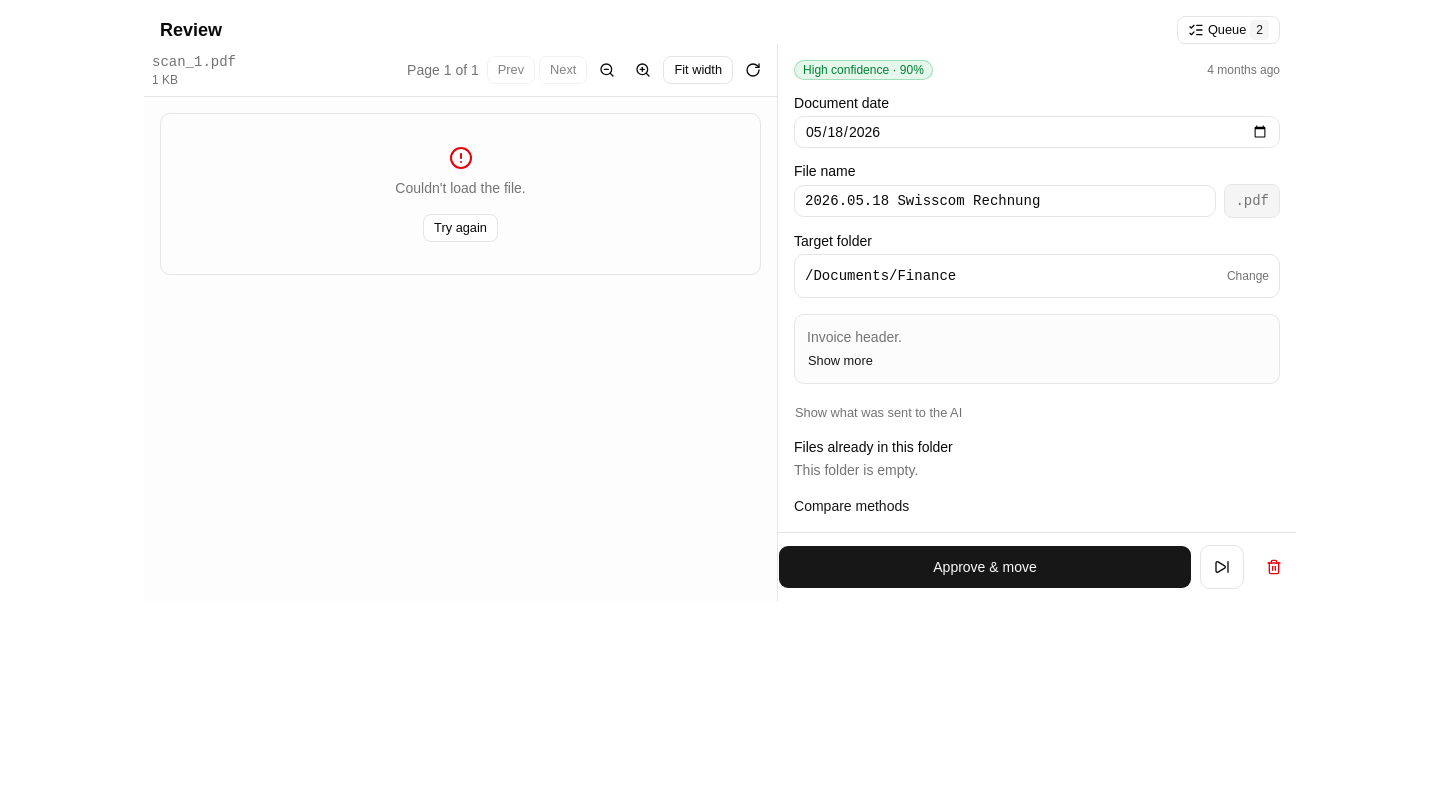
Test: ReviewPage queue overview › lists every open document and jumps to the one that is picked
Check: the field showing "2026.05.18 Swisscom Rechnung" is shown, box [794,185,1216,217]
Click the button "Queue 2".
click(1228, 30)  # box [1177,16,1280,44]
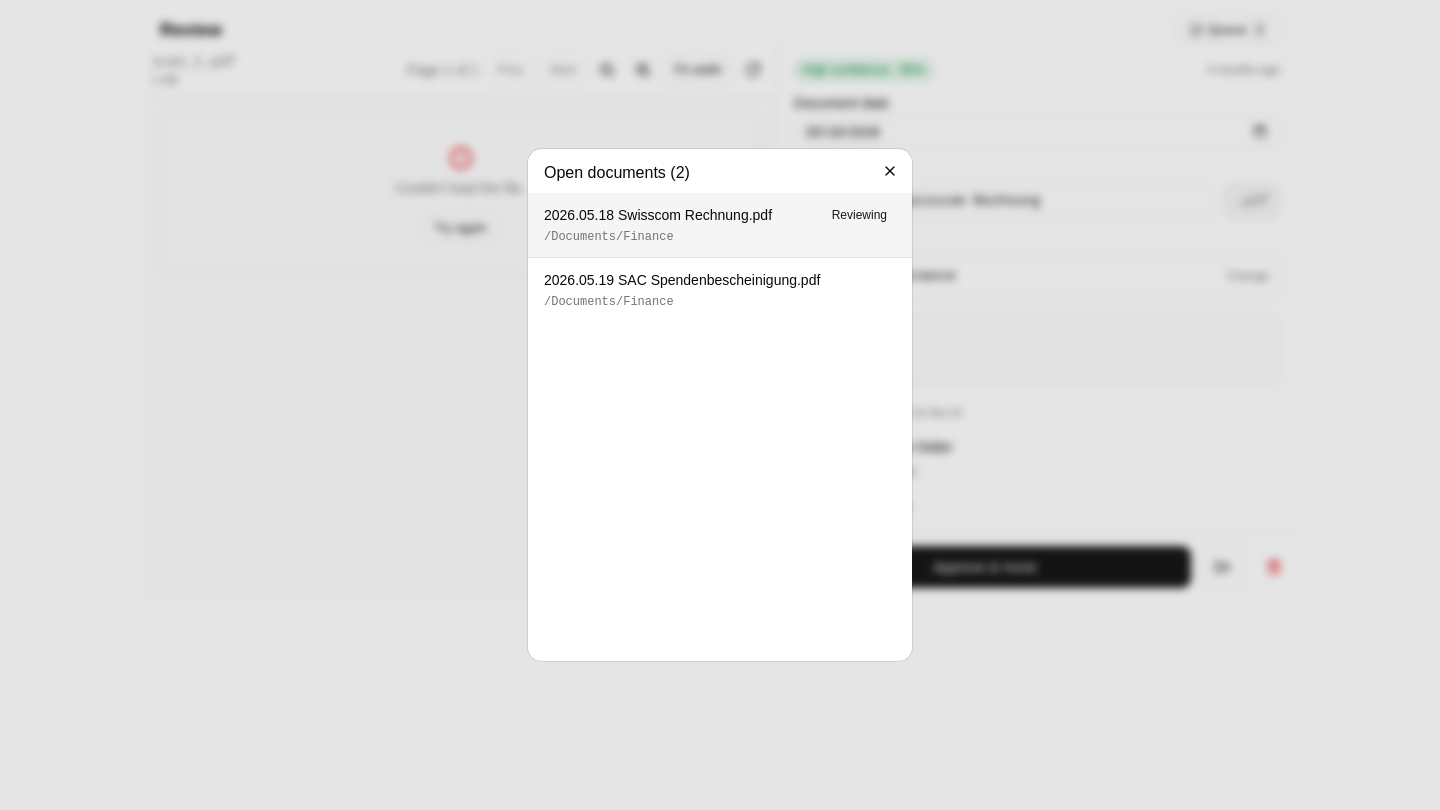
Click the button "2026.05.19 SAC Spendenbescheinigung.pdf /Documents/Finance".
click(720, 290)  # box [528,258,912,322]
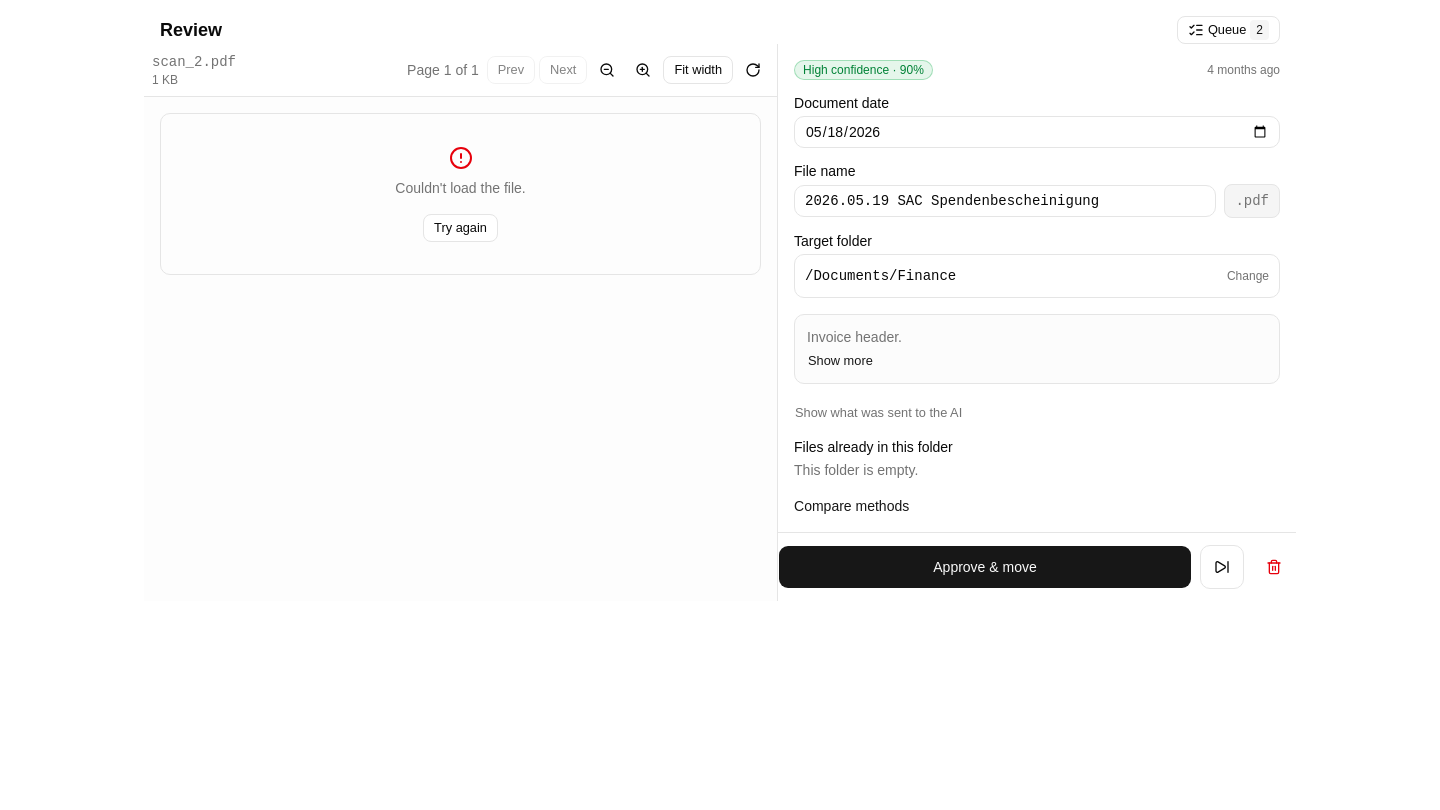
Check: the field showing "2026.05.19 SAC Spendenbescheinigung" is shown, box [794,185,1216,217]
